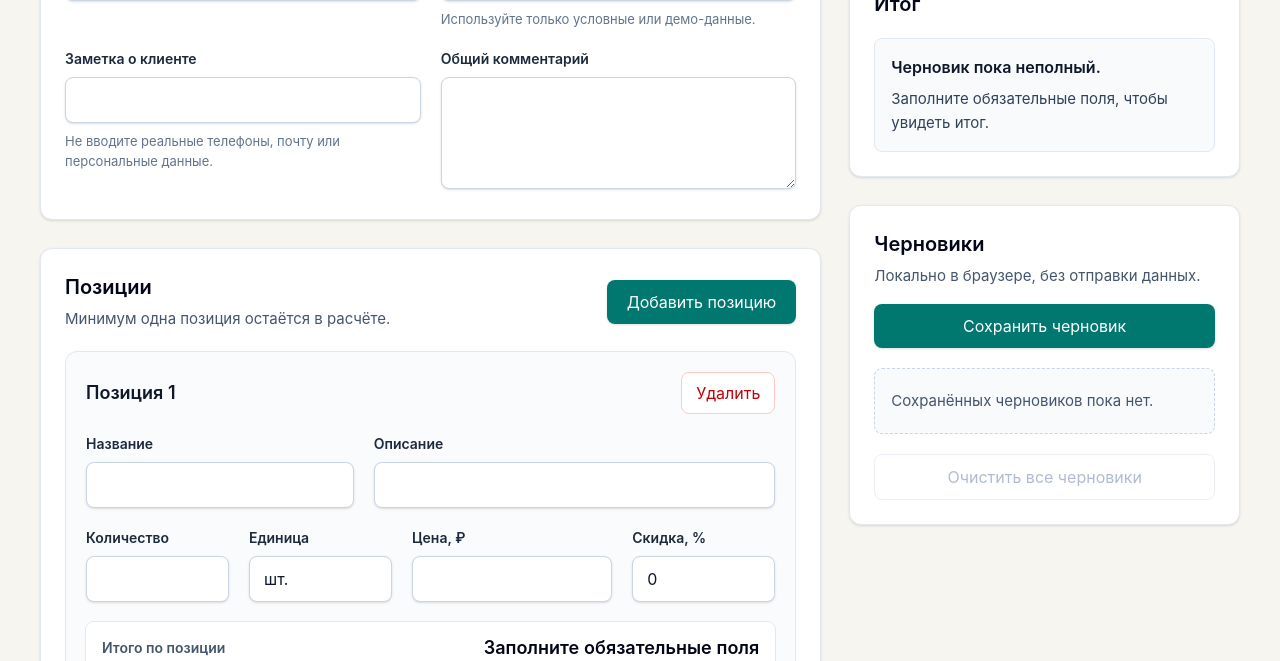
Test: QuoteFlow UI › adds an item
This screenshot has width=1280, height=661.
(page scrolled)
Click the button "Добавить позицию".
click(701, 302)  # box [607,280,796,324]
(page scrolled)
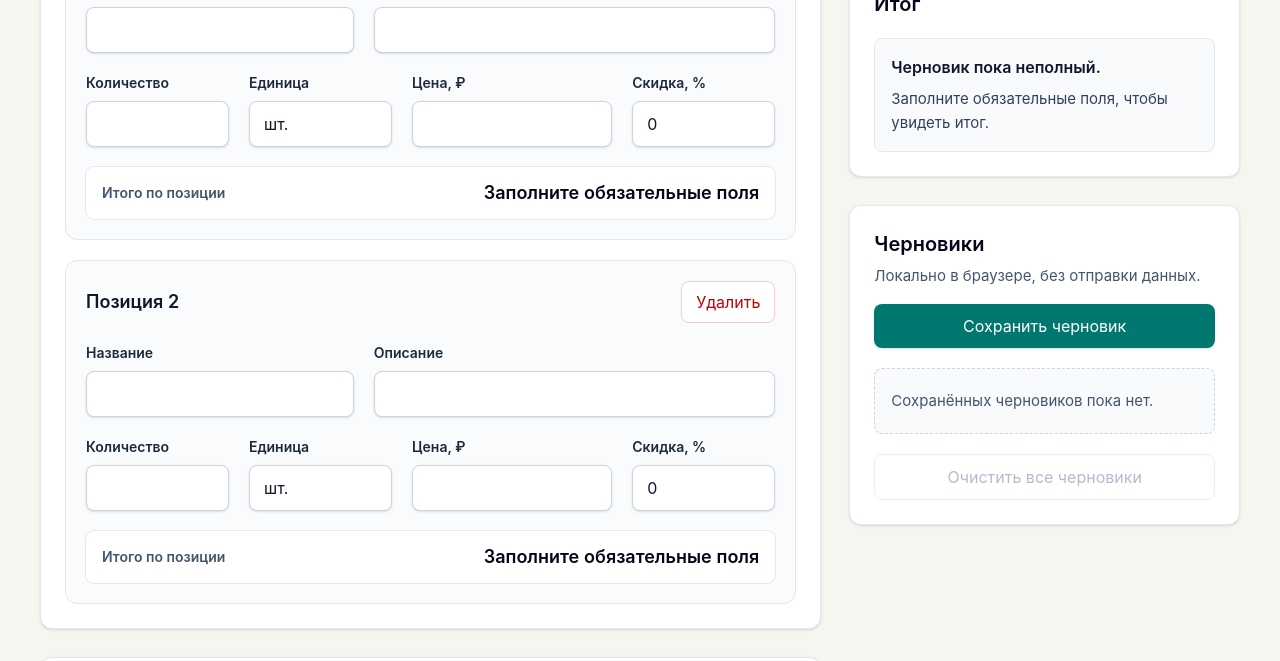
Now the heading "Позиция 2" is shown, box [86,288,179,316]
